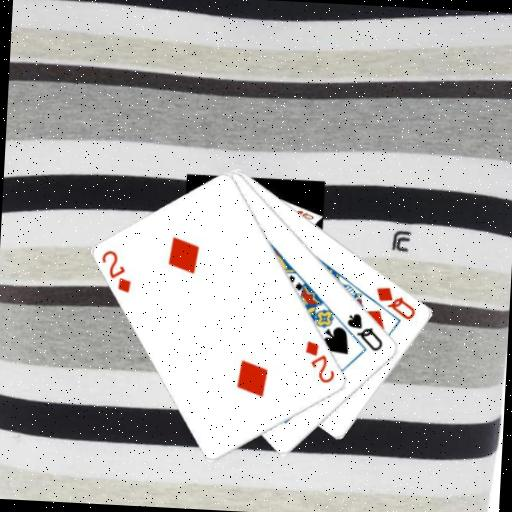2D: (97, 246, 136, 295), (301, 337, 339, 386)
QD: (372, 283, 419, 322)
QS: (343, 310, 386, 353)
